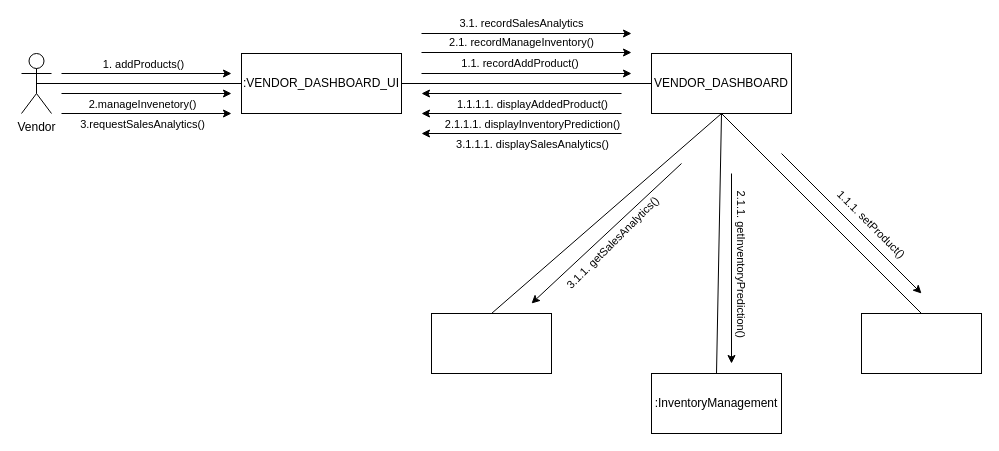
This 999x451 diagram has some shape labels left out. The shapes that lost their labels are listed below. From the top down, each one's centre as x and y in pixels, then its label:
At (x=491, y=343): ":SalesAnalytics".
At (x=921, y=343): ":ProductManagement".
